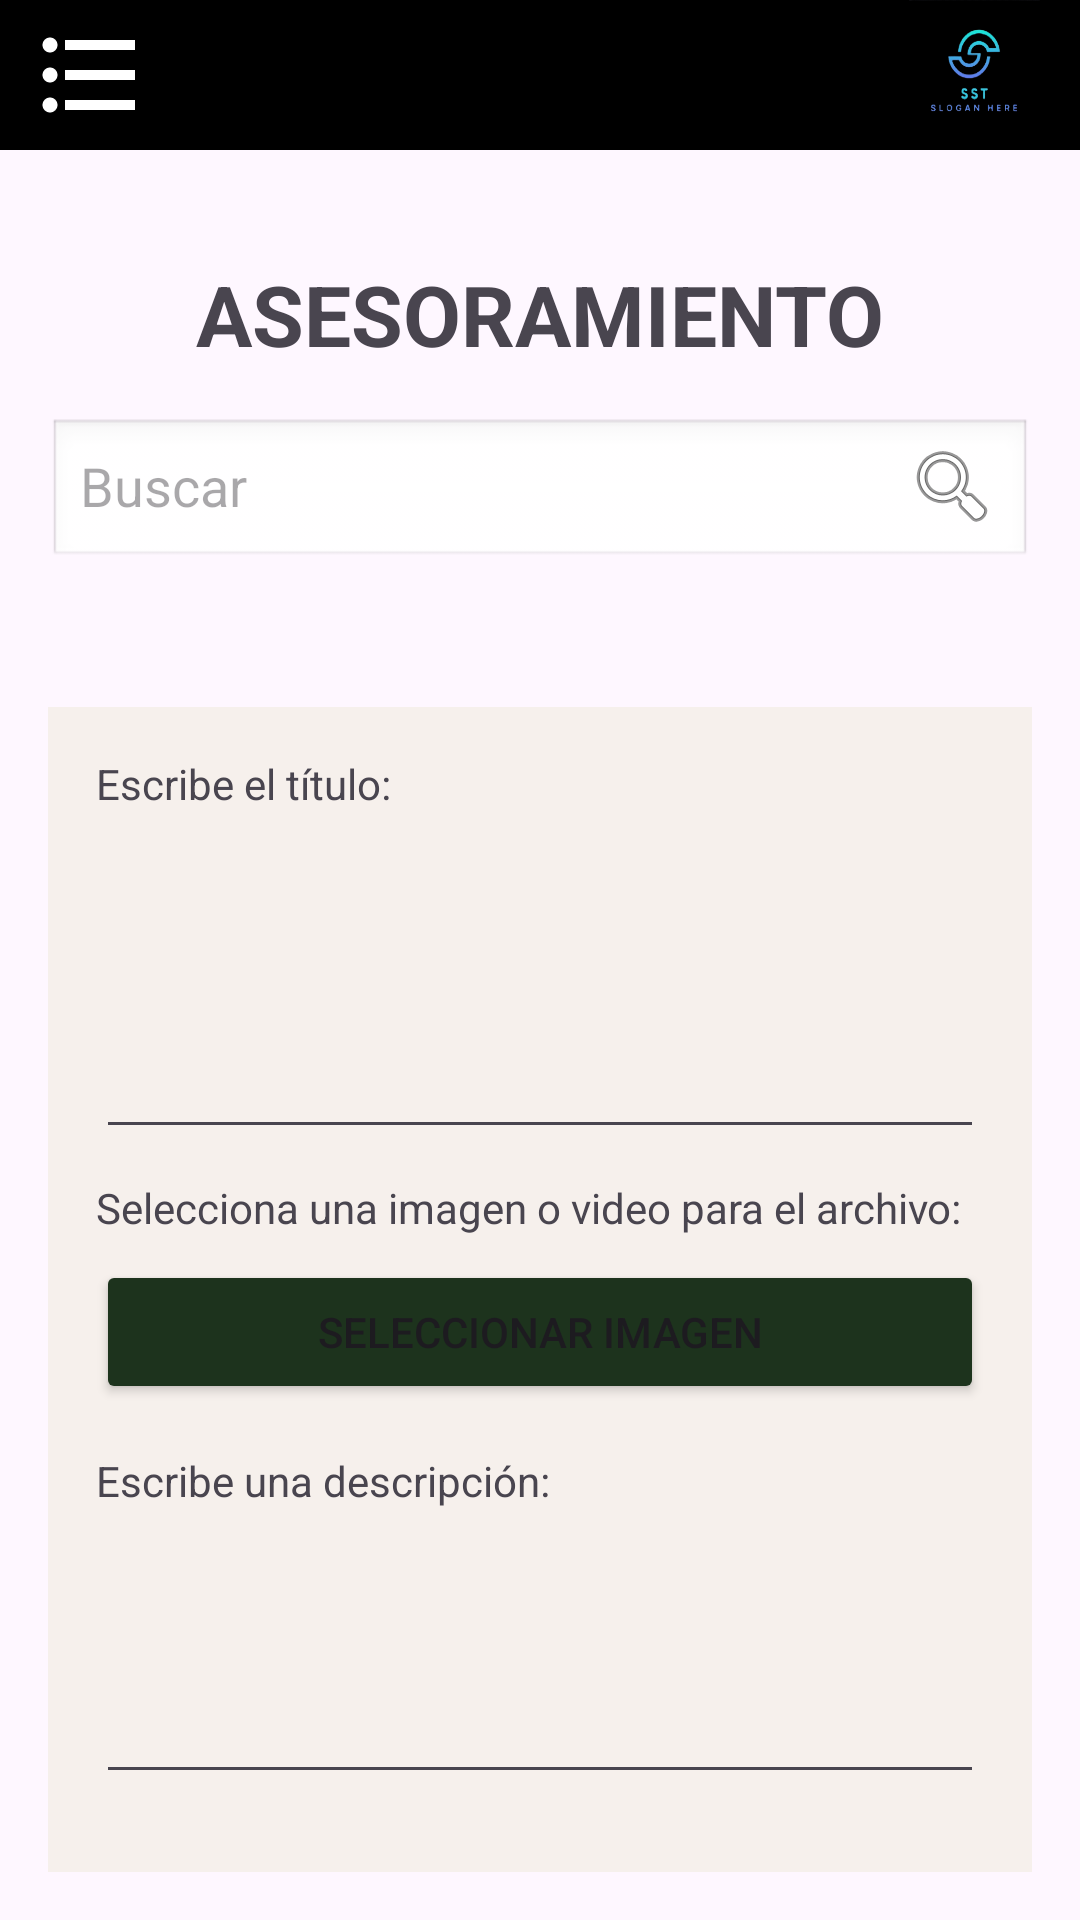

Where to tap for icons on this 1080 x 1920 app screen, as (x,y):
list: (88,75)
